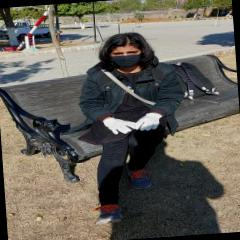gloved: (106, 116, 136, 136), (134, 111, 162, 132)
